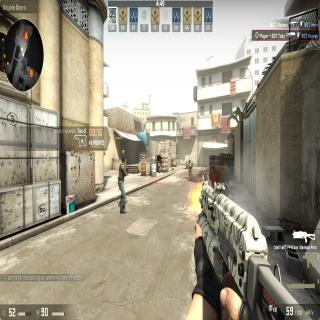CT-Body: (187, 158, 193, 179)
CT-Head: (188, 157, 191, 163)
T-Body: (117, 156, 129, 215)
T-Head: (121, 157, 126, 165)
